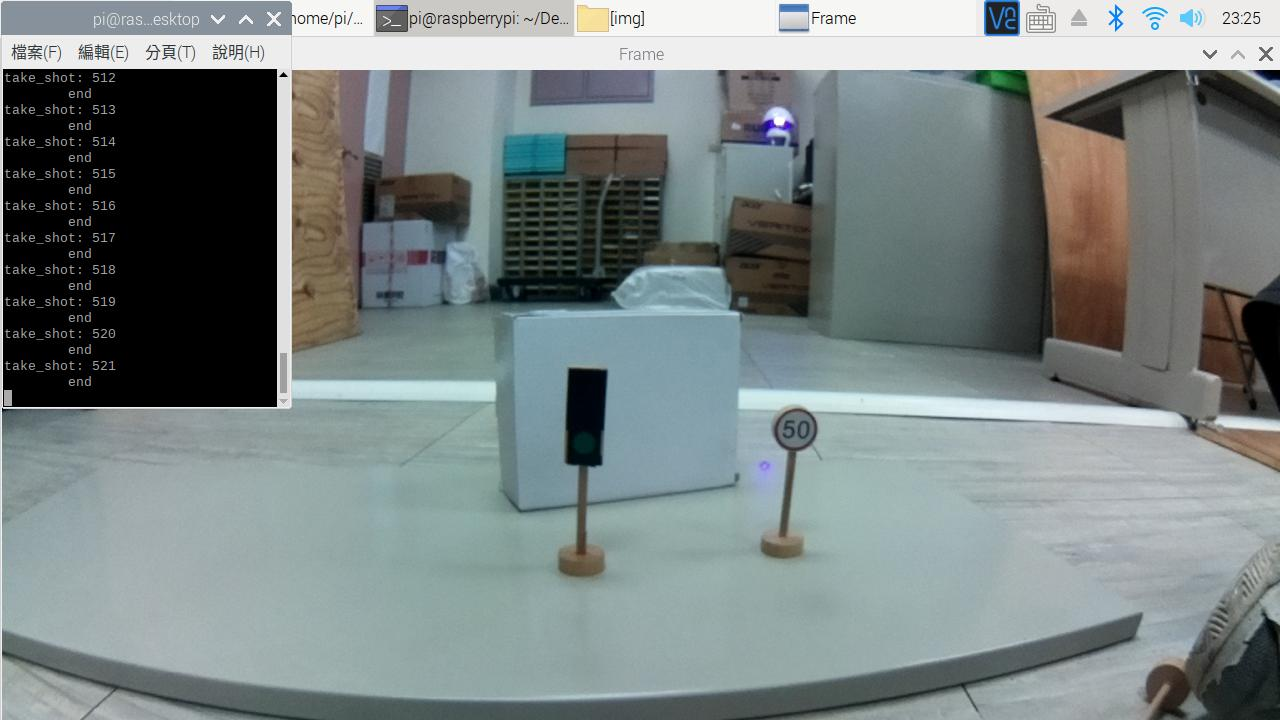Green: (551, 361, 617, 479)
Speed50: (773, 399, 825, 453)
